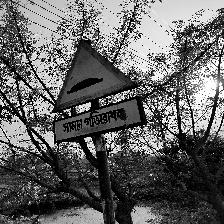Speed-breaker: (51, 40, 146, 145)
